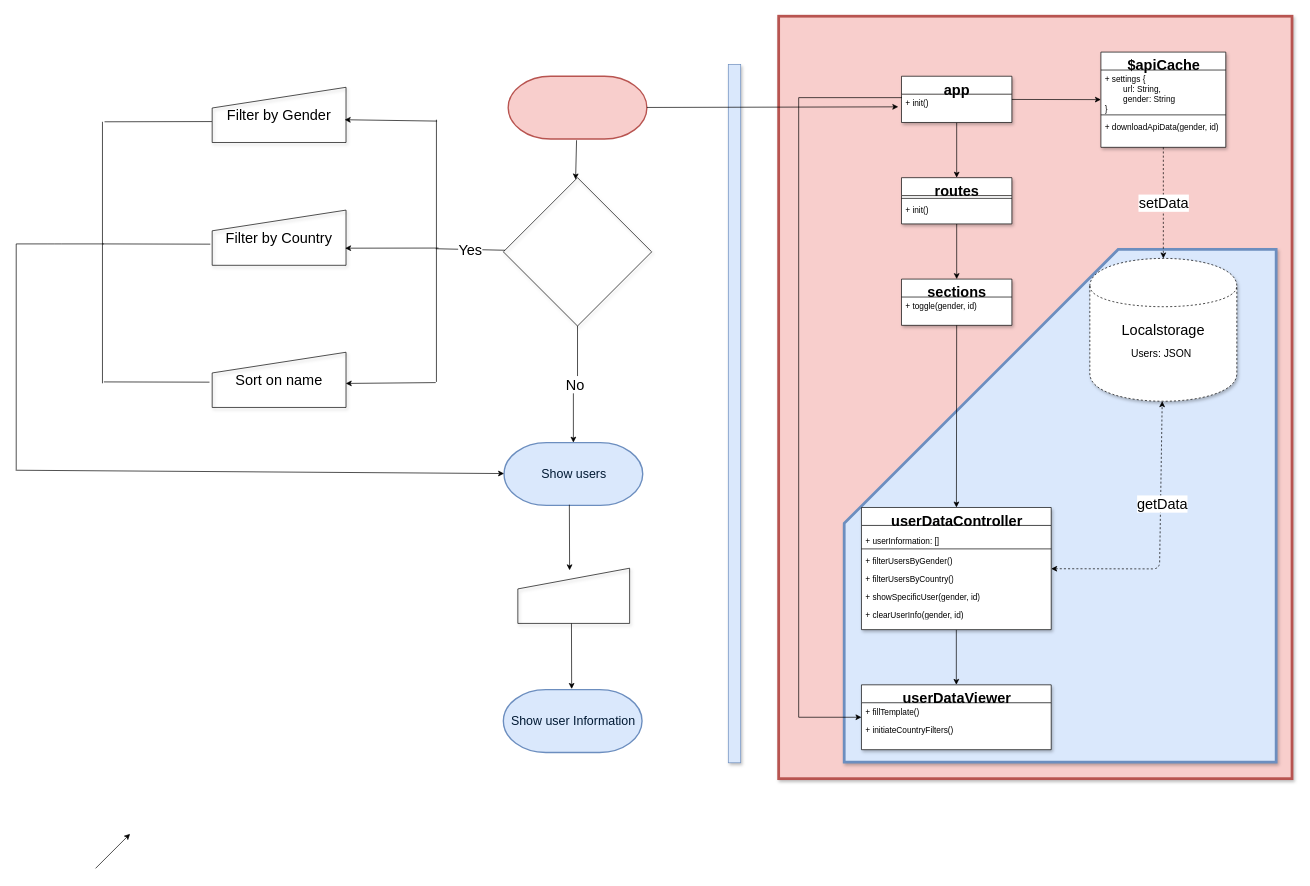
This 1310x886 diagram has some shape labels left out. Each missing label, with the centre of its shape:
"Choose user" belongs at point (574, 596).
"Click Filters SPA == Default both genders" belongs at point (578, 252).
"Navigate to SPA(url)" belongs at point (577, 107).
